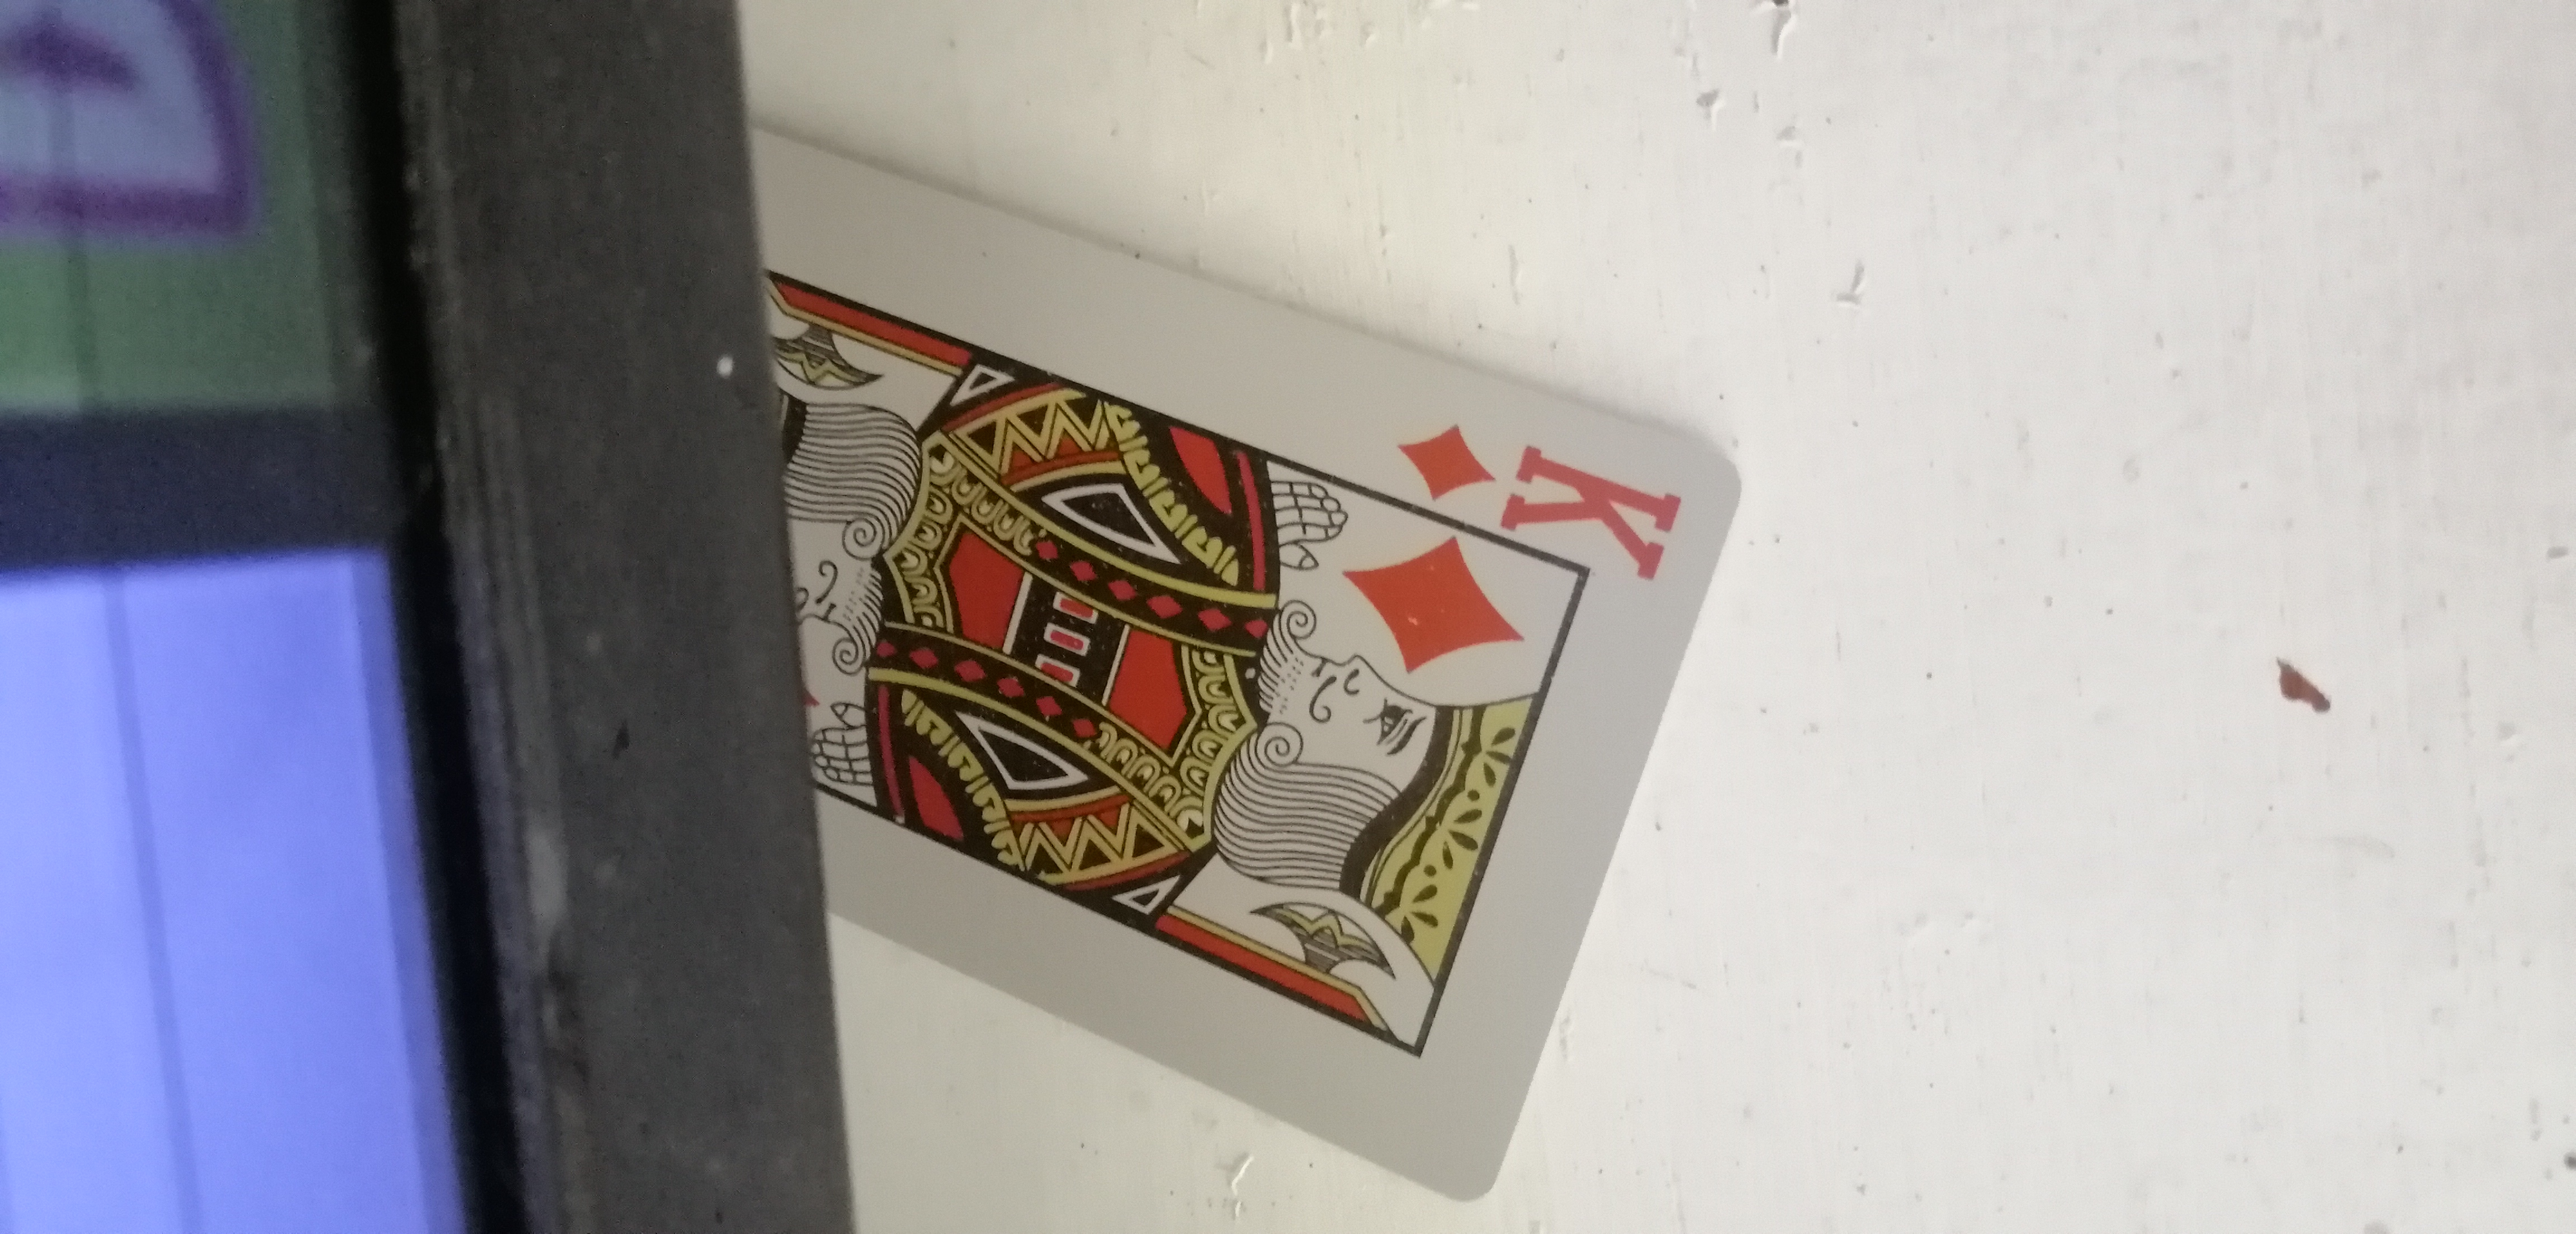king: (700, 102, 1758, 1214)
